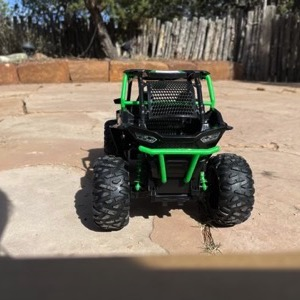polaris: (91, 68, 255, 230)
